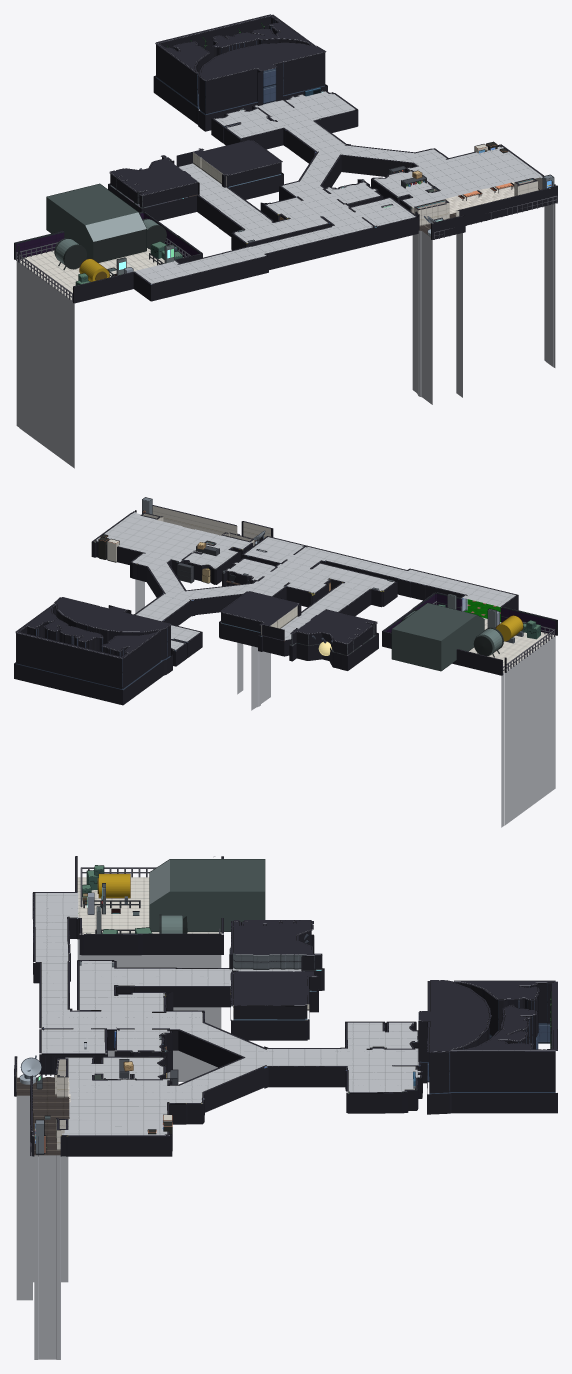
The model's file is mira.glb.
3 views of the same model, one above another, from view 1: azimuth 30°, elevation 25°; view 2: azimuth 150°, elevation 25°; view 3: azimuth 270°, elevation 25° (orthographic). The views are drawn at different scales.
Visible parts, largest first — view 1: hullside, skirt, skirt_4.20, props_LaunchPad, ceiling_Cafe, roof_Garden, ceiling_SkyBridge, ceiling_CarpetHall, ceiling_Decontam, floor_LaunchPad, ceiling_Locker, roof_Laboratory (+17 smaller); view 2: hullside, skirt, skirt_4.20, props_LaunchPad, ceiling_Cafe, roof_Garden, ceiling_CarpetHall, ceiling_SkyBridge, ceiling_Locker, roof_Laboratory, wallS_Balcony, roof_Reactor (+17 smaller); view 3: hullside, skirt, skirt_4.20, props_LaunchPad, ceiling_Cafe, roof_Garden, ceiling_SkyBridge, ceiling_CarpetHall, ceiling_Locker, roof_Laboratory, floor_LaunchPad, roof_Reactor (+16 smaller).
Boxes of the visible parts, x1,y1,x2,y2 form: hullside: (14, 75, 557, 303); skirt: (16, 203, 555, 468); skirt_4.20: (156, 17, 325, 114); props_LaunchPad: (46, 183, 146, 262); ceiling_Cafe: (403, 145, 542, 207); roof_Garden: (157, 15, 324, 80); ceiling_SkyBridge: (255, 100, 413, 184); ceiling_CarpetHall: (133, 226, 350, 283); ceiling_Decontam: (179, 163, 272, 229); floor_LaunchPad: (17, 248, 183, 299); ceiling_Locker: (234, 197, 327, 242); roof_Laboratory: (193, 140, 280, 175); hullside: (14, 510, 557, 705); skirt: (135, 579, 555, 827); skirt_4.20: (16, 606, 170, 689); props_LaunchPad: (391, 602, 484, 671); ceiling_Cafe: (94, 512, 251, 566); roof_Garden: (16, 597, 170, 658); ceiling_CarpetHall: (321, 551, 515, 607); ceiling_SkyBridge: (136, 564, 253, 621); ceiling_Locker: (287, 563, 394, 593); roof_Laboratory: (221, 591, 298, 626); wallS_Balcony: (143, 506, 270, 545); roof_Reactor: (292, 610, 375, 643); hullside: (14, 856, 557, 1156); skirt: (16, 939, 221, 1359); skirt_4.20: (419, 982, 555, 1093); props_LaunchPad: (149, 859, 265, 931); ceiling_Cafe: (62, 1057, 202, 1135); roof_Garden: (419, 980, 555, 1051); ceiling_SkyBridge: (182, 1023, 418, 1091); ceiling_CarpetHall: (35, 892, 81, 1013); ceiling_Locker: (79, 961, 164, 1012); roof_Laboratory: (233, 971, 316, 1004); floor_LaunchPad: (77, 877, 221, 934); roof_Reactor: (233, 921, 321, 954).
Size of the model in its own units: 41.16 by 18.21 by 33.75.
692 materials, 671 textured.
